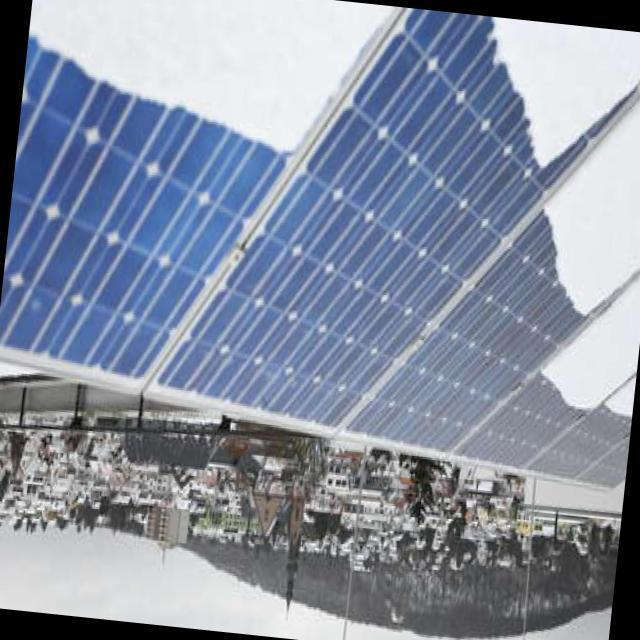Anomaly Solar Panel: (148, 9, 640, 434), (1, 0, 407, 387), (339, 96, 640, 458), (449, 276, 639, 471), (523, 374, 636, 490)
Snow: (28, 0, 390, 157), (478, 16, 640, 178), (531, 75, 640, 314), (539, 262, 640, 415)
